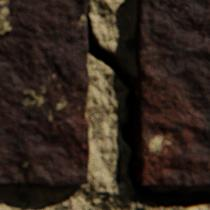brick: (0, 0, 88, 186), (133, 0, 209, 186)
crack: (86, 0, 209, 208)
